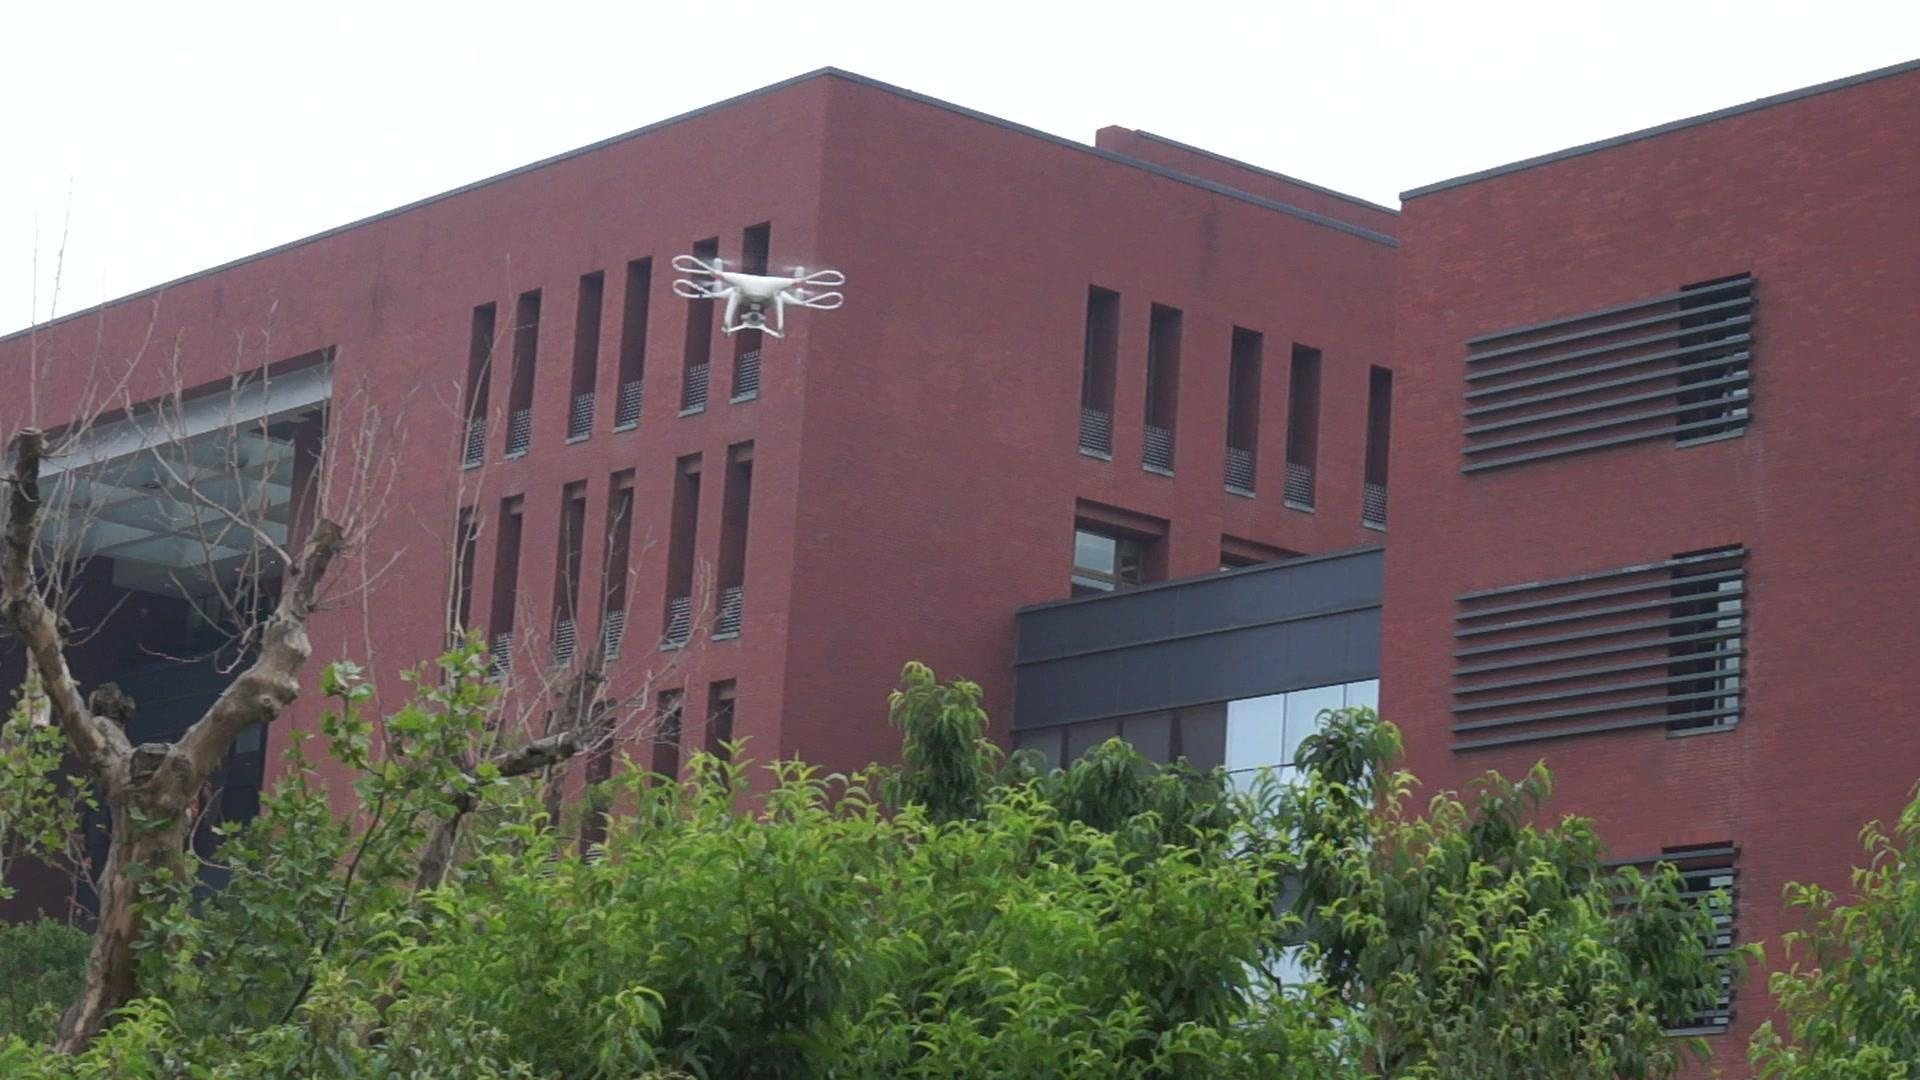UAV: (673, 255, 847, 339)
